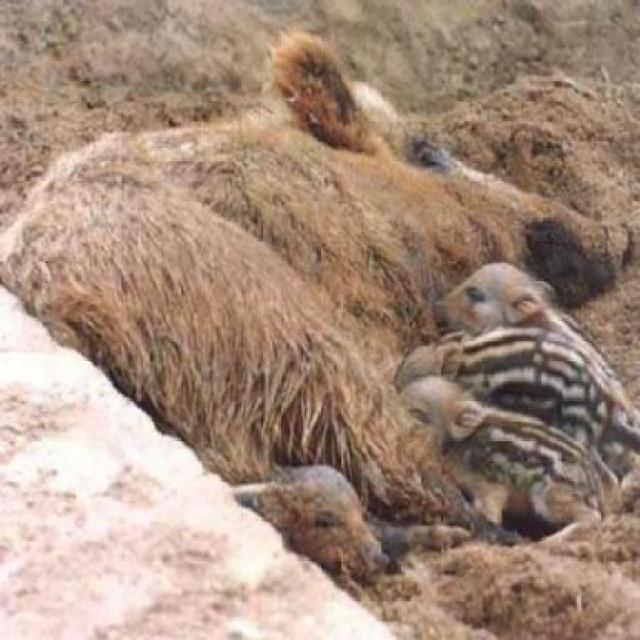pig: (4, 71, 638, 626), (424, 265, 638, 372)
